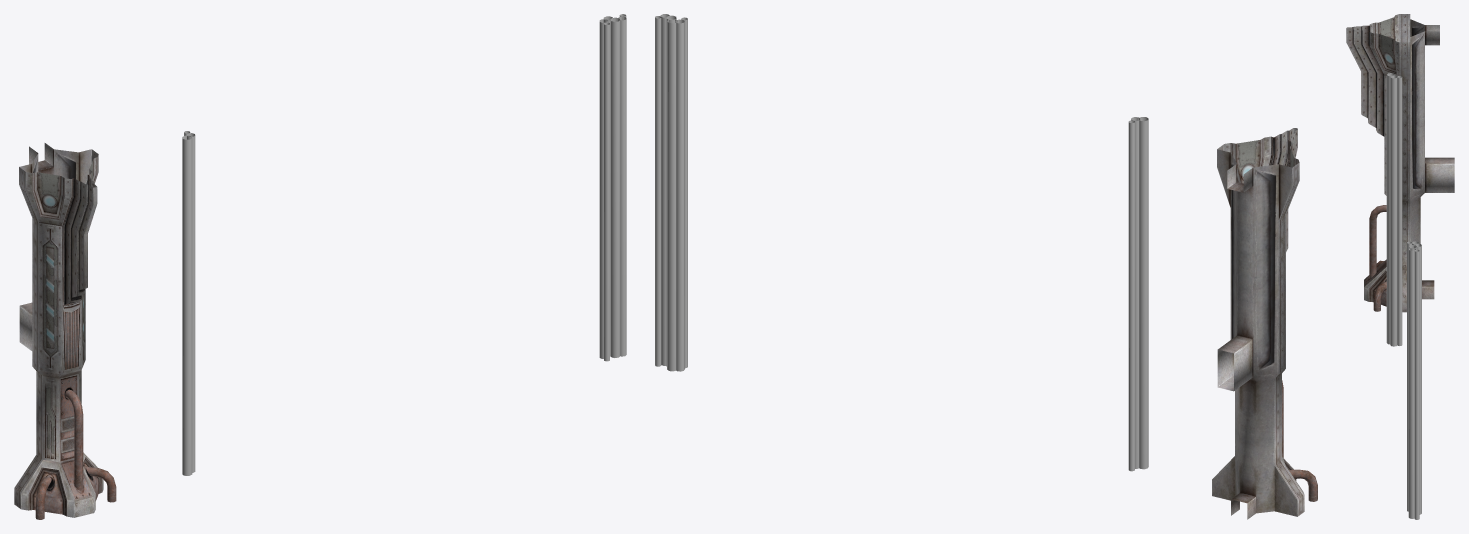
The model's file is CrackFillers.fbx.
3 renders of one model, left to right at view 1: azimuth 30°, elevation 25°; view 2: azimuth 150°, elevation 25°; view 3: azimuth 270°, elevation 25°, orthographic. The views are drawn at different scales.
Visible parts, largest first — view 1: ISAResistanceSinglePillar, ISAResistancePipes1, ISAResistancePipes, ISAResistancePipes2; view 2: ISAResistanceSinglePillar, ISAResistancePipes, ISAResistancePipes2, ISAResistancePipes1; view 3: ISAResistanceSinglePillar, ISAResistancePipes, ISAResistancePipes1, ISAResistancePipes2.
Boxes of the visible parts, x1,y1,x2,y2 form: ISAResistanceSinglePillar: (14, 143, 116, 519); ISAResistancePipes1: (610, 14, 626, 357); ISAResistancePipes: (182, 131, 195, 475); ISAResistancePipes2: (599, 16, 613, 361); ISAResistanceSinglePillar: (1212, 128, 1317, 519); ISAResistancePipes: (1128, 117, 1148, 471); ISAResistancePipes2: (667, 17, 687, 371); ISAResistancePipes1: (655, 14, 676, 366); ISAResistanceSinglePillar: (1346, 14, 1454, 312); ISAResistancePipes: (1386, 73, 1402, 346); ISAResistancePipes1: (1408, 245, 1419, 519); ISAResistancePipes2: (1407, 241, 1421, 514).
Size of the model in its own units: 767 by 400 by 147.
2 materials, 1 textured.
